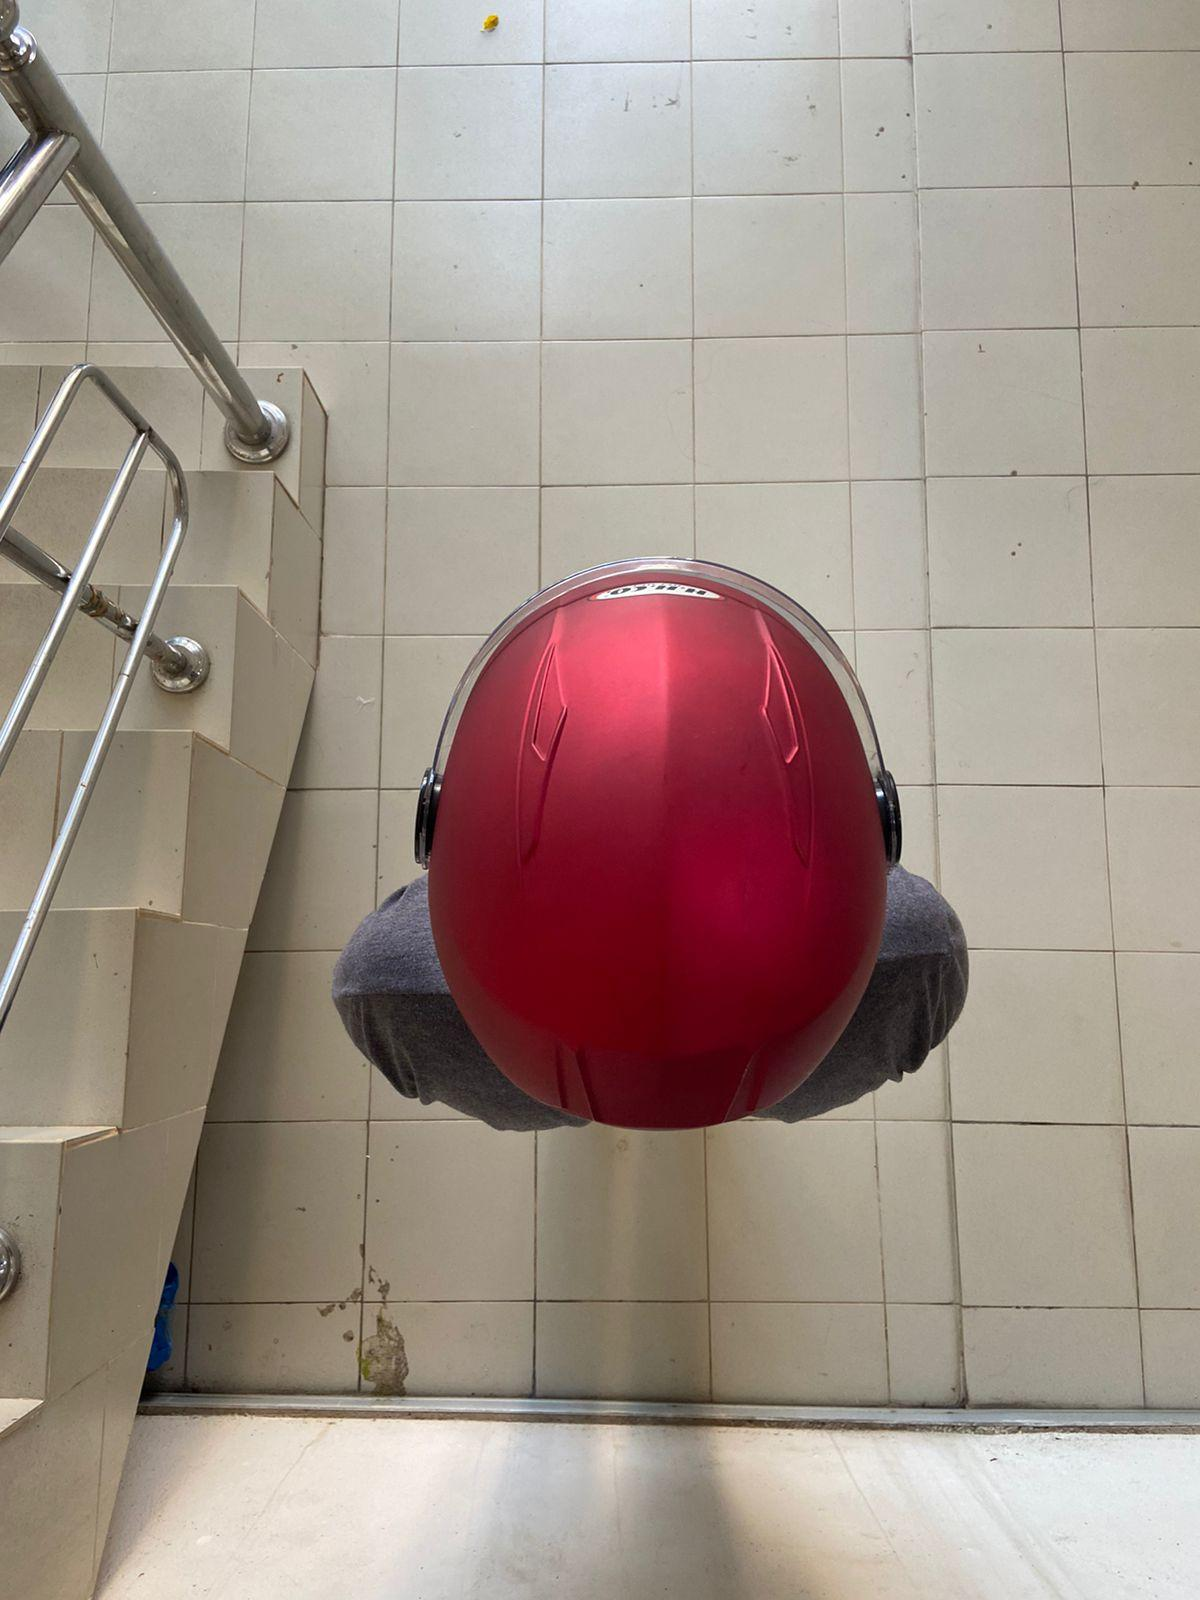helmet: (416, 554, 903, 1136)
